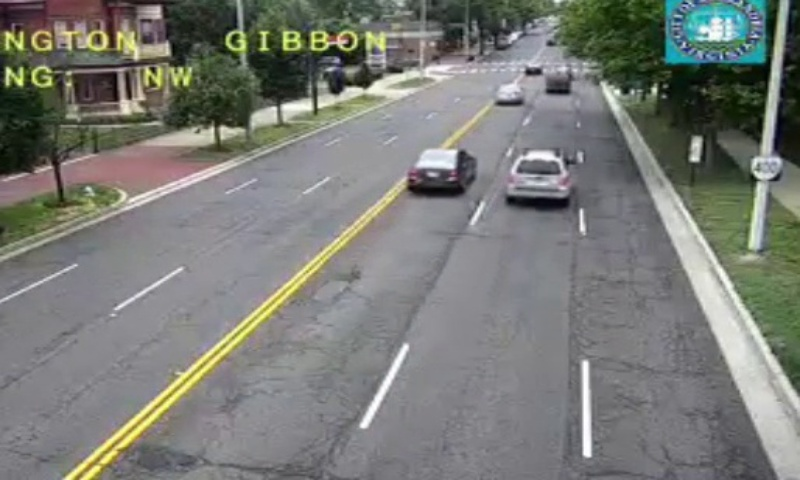car: (505, 149, 571, 200), (407, 149, 477, 190), (494, 83, 524, 104)
